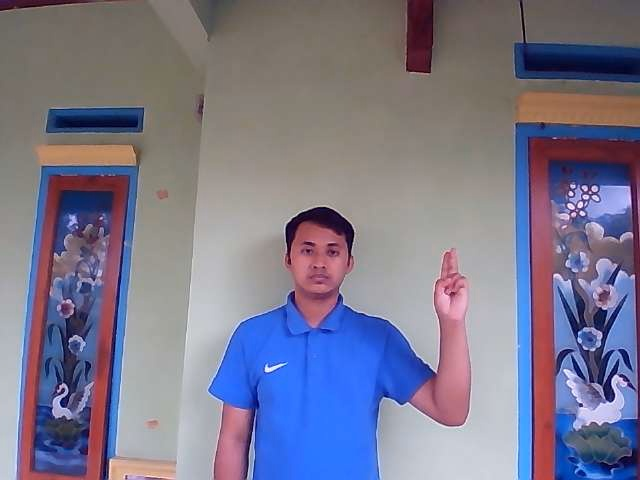U: (433, 247, 469, 320)
